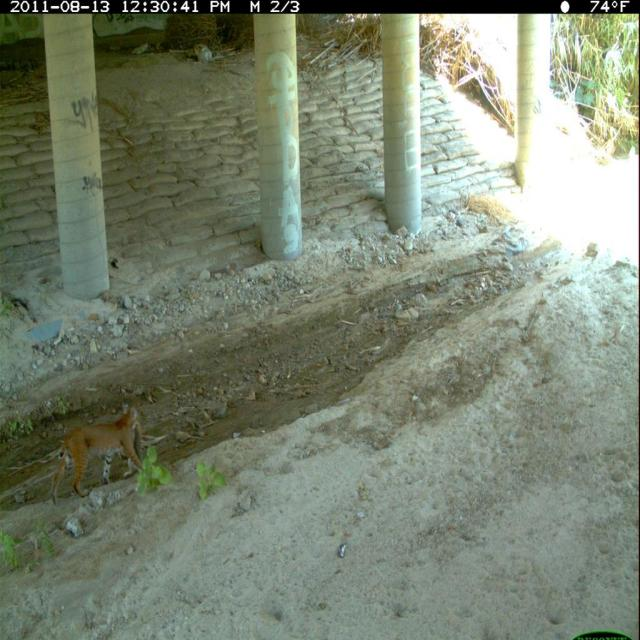bobcat: (48, 396, 150, 512)
rabbit: (123, 420, 150, 487)
